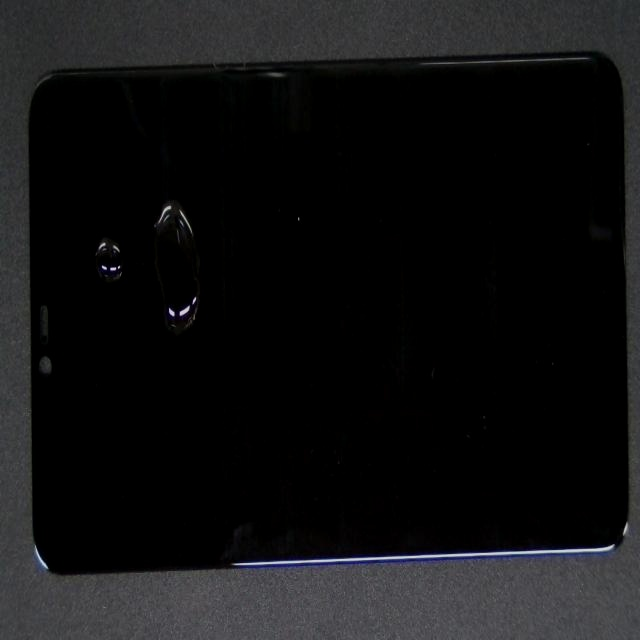oil: (88, 56, 243, 315), (53, 90, 142, 384)
